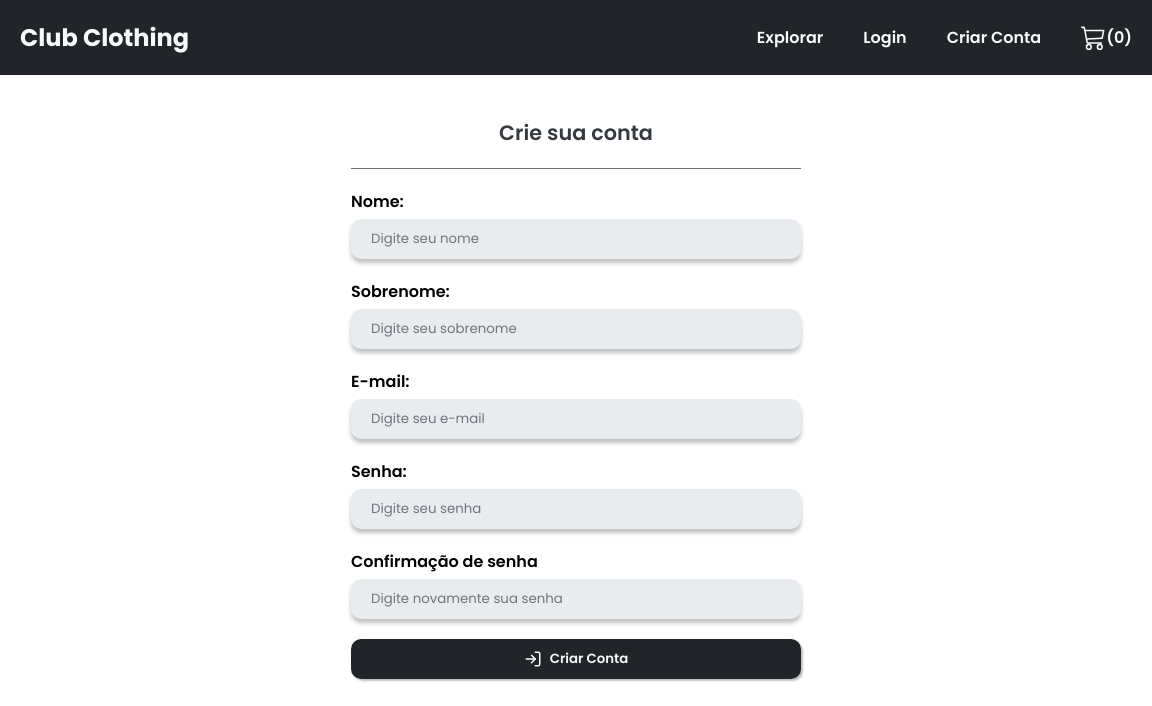
Test case: Sign Up › should show errors when password and password confirmation are different
The width and height of the screenshot is (1152, 706).
In the password field with placeholder "Digite seu senha": (576, 508) [351,488,801,528], type "123456"
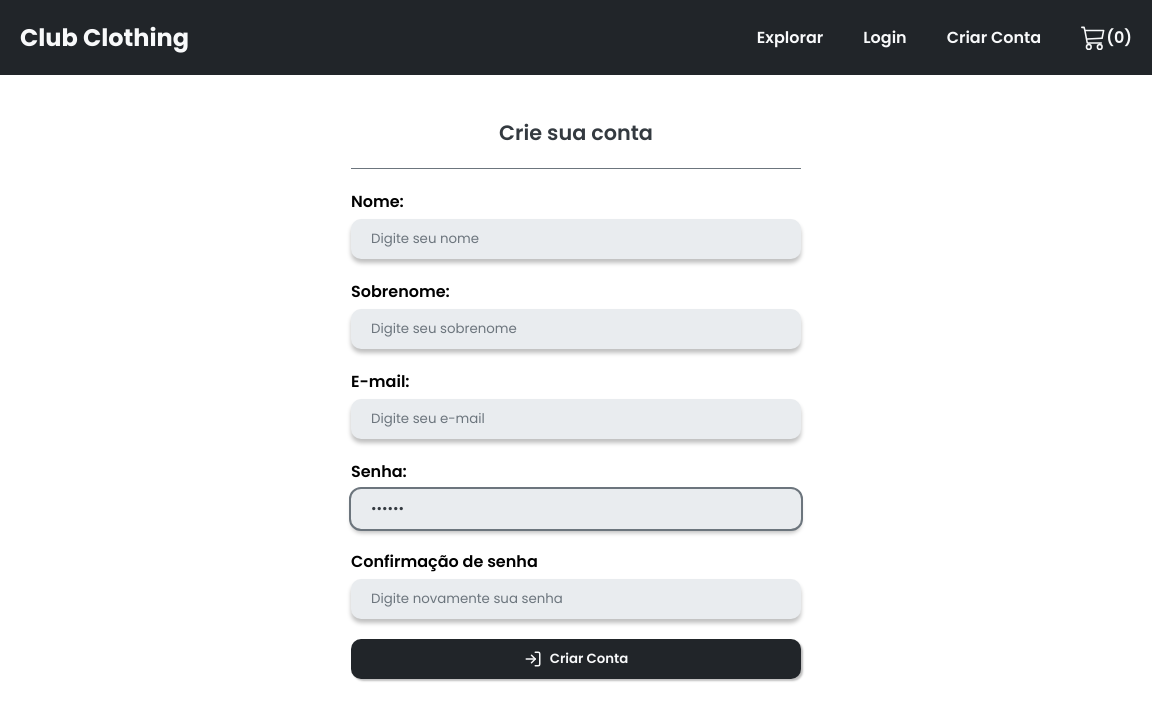
In the password field with placeholder "Digite novamente sua senha": (576, 598) [351,578,801,618], type "1234567"
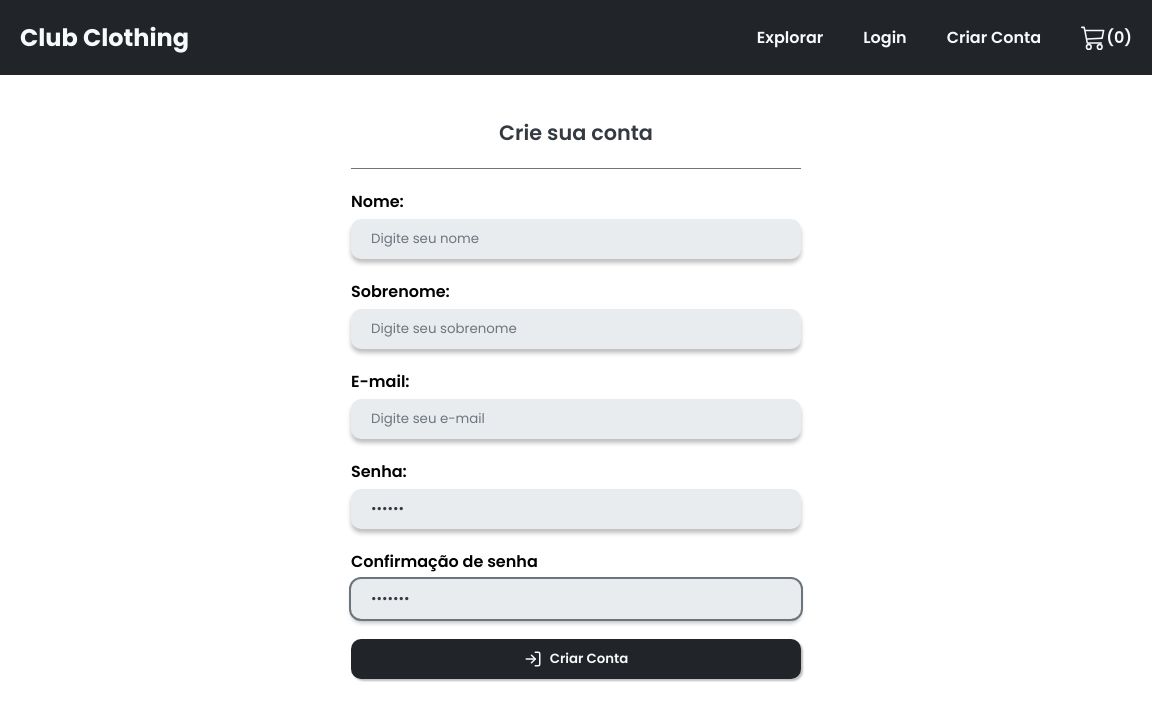
Click the button "Criar Conta": (576, 658) [351,638,801,678]
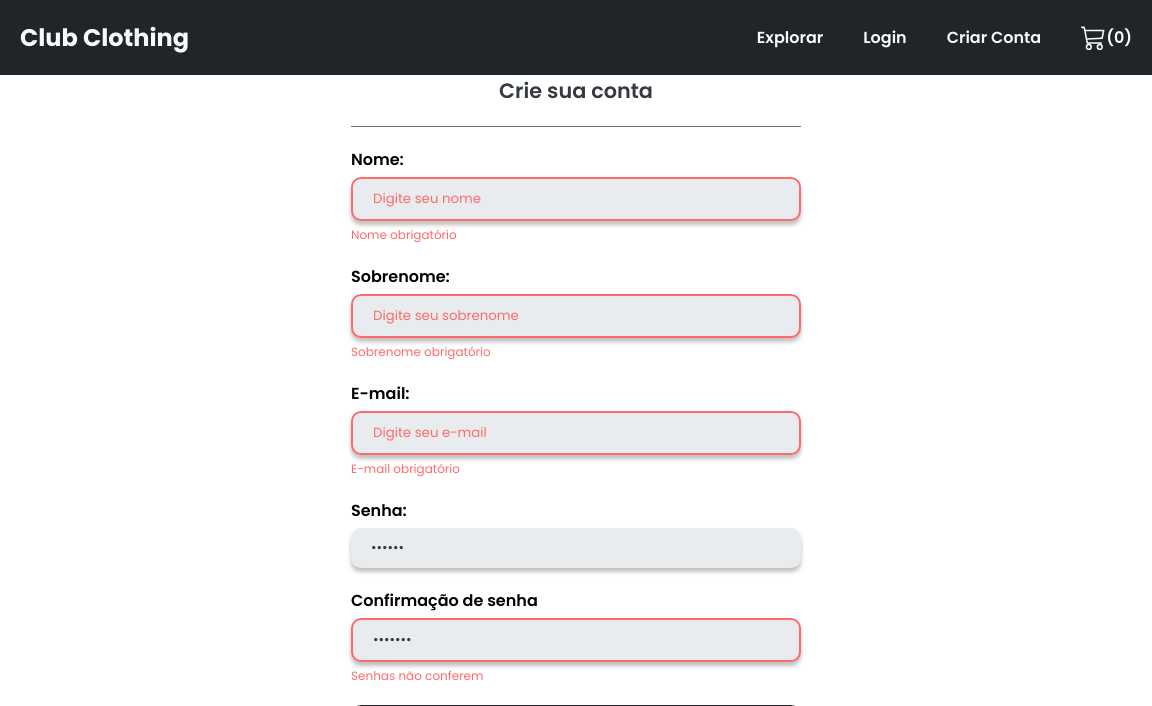
Now the text "Senhas não conferem" is shown, box [351,667,483,684]
